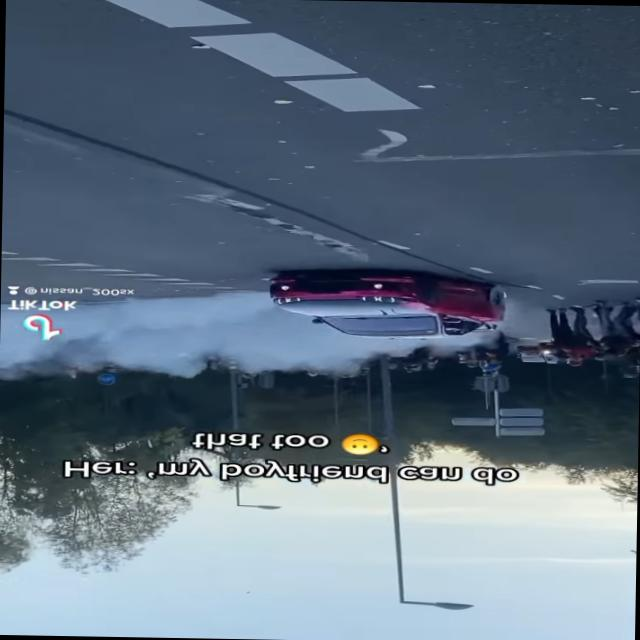car: (268, 270, 513, 344)
